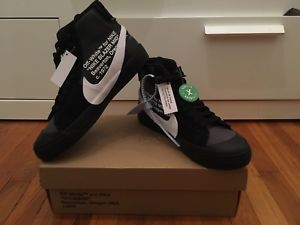Nike Blazer Grim Reaper: (29, 1, 153, 164), (132, 51, 254, 171)
